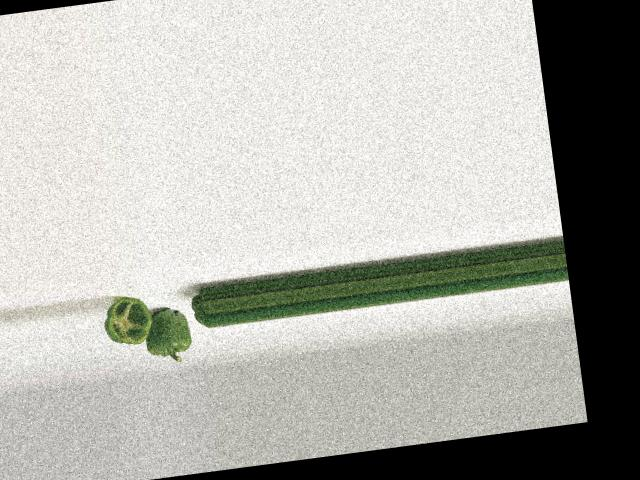bell_pepper: (98, 290, 158, 353)
